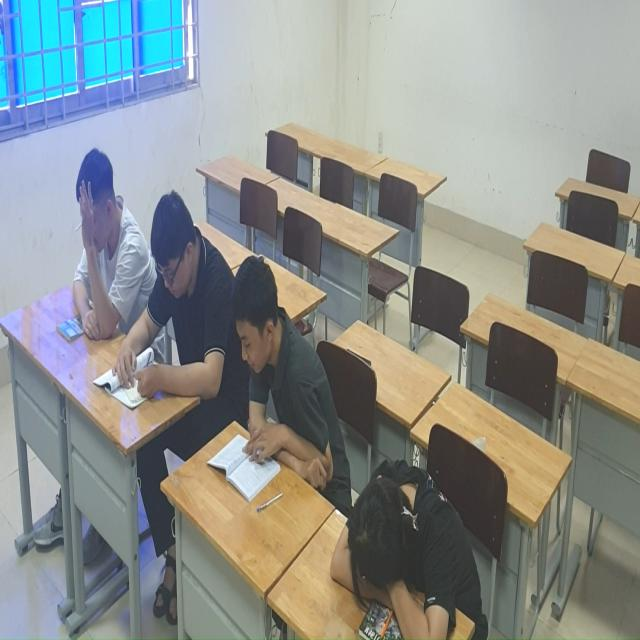raise_hand: (50, 140, 147, 350)
read: (206, 247, 336, 508), (113, 184, 225, 431)
sleep: (327, 451, 487, 640)
